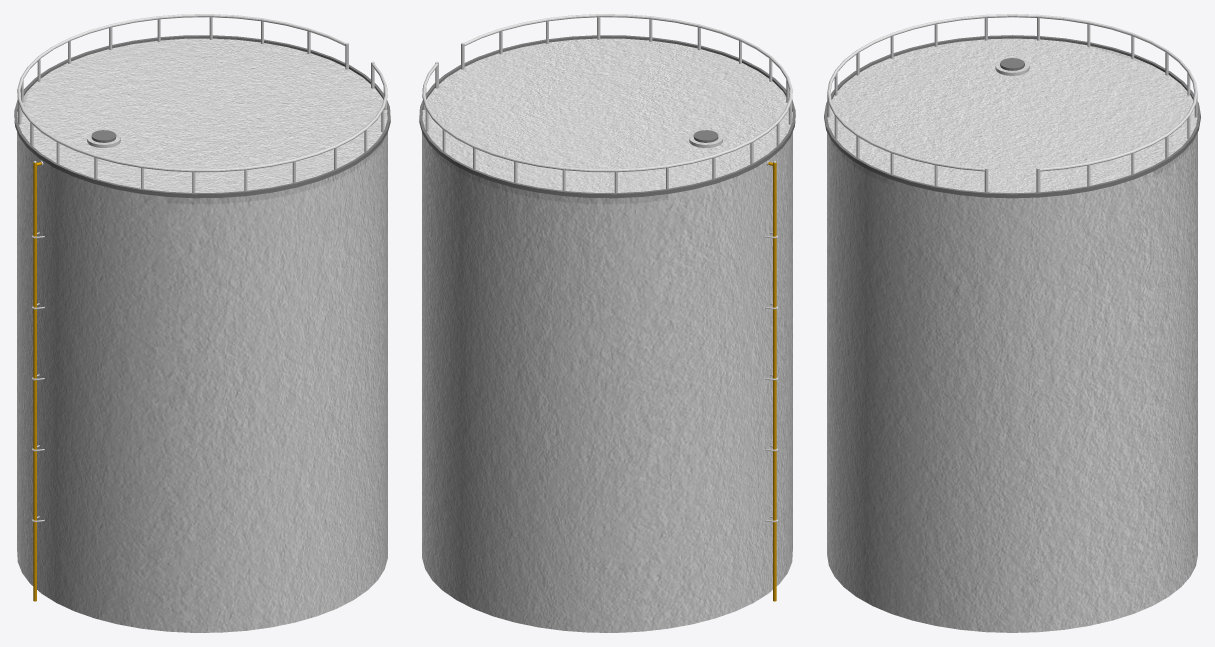
File: Tank Only.fbx
3 views of the same model, side by side, from view 1: azimuth 30°, elevation 25°; view 2: azimuth 150°, elevation 25°; view 3: azimuth 270°, elevation 25° (orthographic).
Parts seen in each view (by area): view 1: Fuel Tank; view 2: Fuel Tank; view 3: Fuel Tank.
Part boxes in pixels (box(x1,y1,x2,y2)): Fuel Tank: box(14, 14, 390, 632); Fuel Tank: box(419, 14, 795, 632); Fuel Tank: box(824, 14, 1200, 632).
Size of the model in its own units: 208 by 279 by 203.
